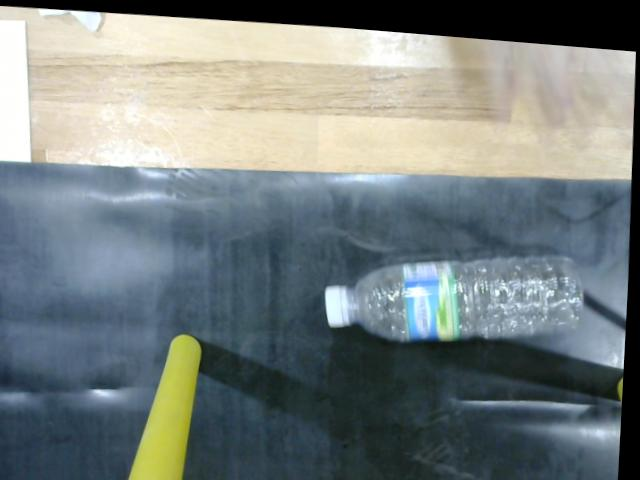bottle: (326, 236, 590, 340)
